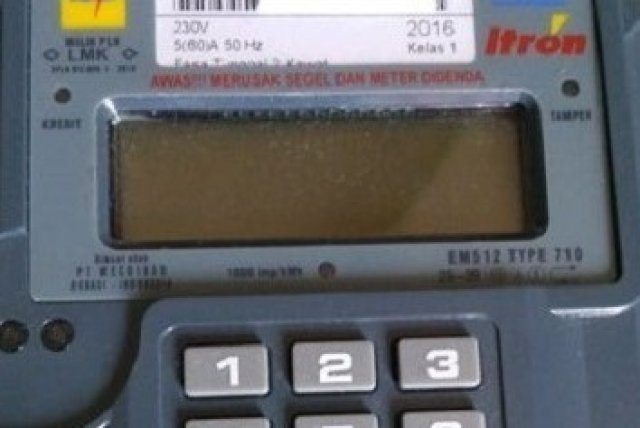box: (110, 116, 535, 240)
